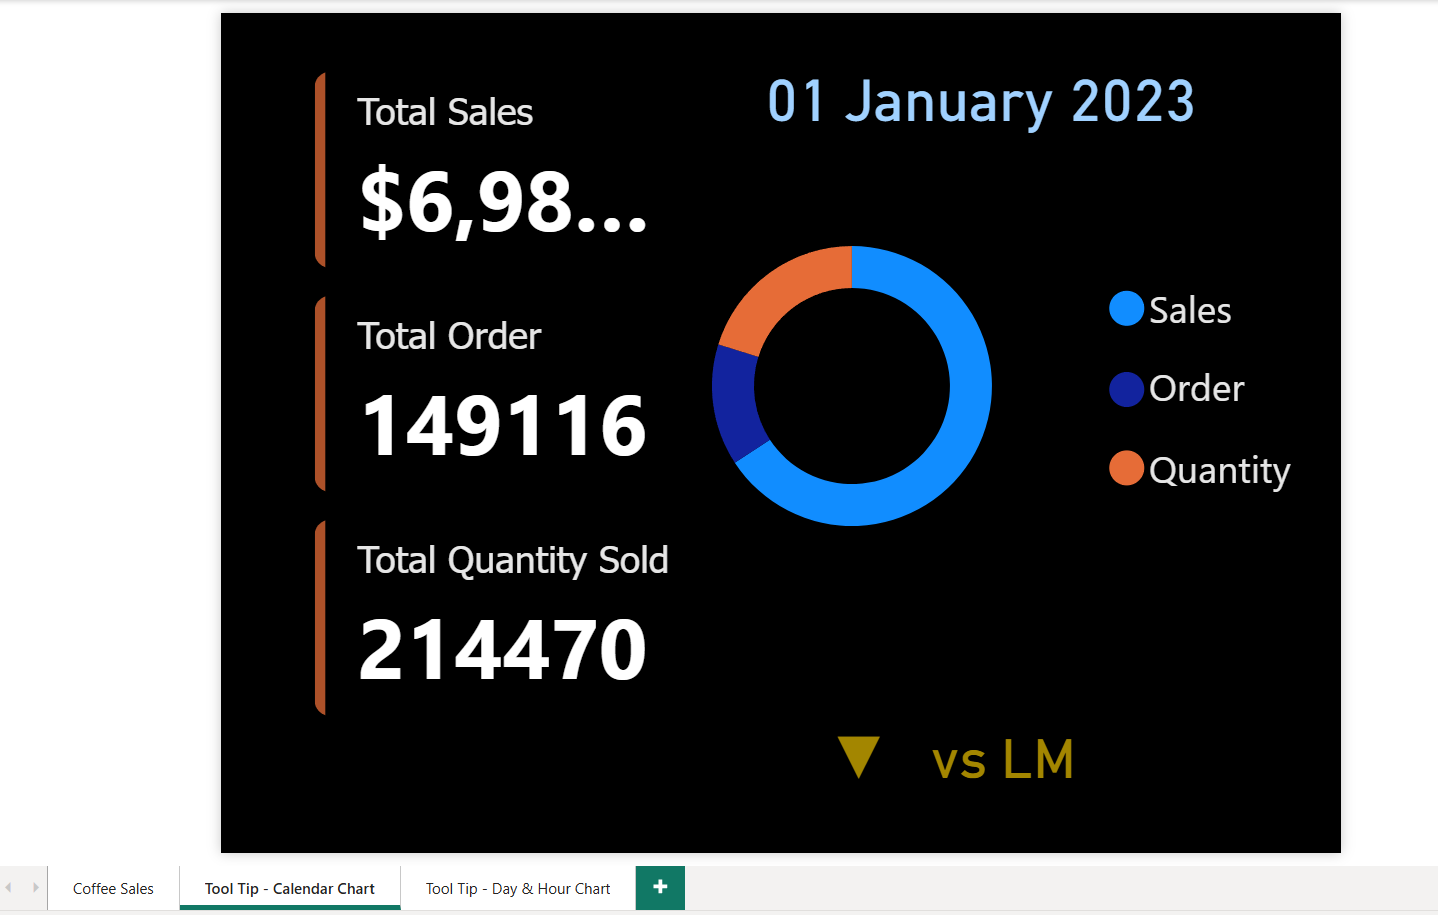

This screenshot's page, from the dashboard's own definition file:
{"tool":"powerbi","page":{"name":"Tool Tip - Calendar Chart","canvas":[320,240],"ordinal":1},"visuals":[{"type":"cardVisual","fields":{"Data":["1. DAX_Measure.Total Sales","1. DAX_Measure.Total Order","1. DAX_Measure.Total Quantity Sold"]},"box":[10,0,148,220],"z":0},{"type":"donutChart","fields":{"Y":["1. DAX_Measure.Total Sales","1. DAX_Measure.Total Order","1. DAX_Measure.Total Quantity Sold"]},"box":[102.8,51.7,217.2,110],"z":1000},{"type":"card","fields":{"Values":["Min(Calendar_Tables.Date)"]},"box":[115,0,205,51.7],"z":2000},{"type":"card","fields":{"Values":["1. DAX_Measure.MoM Growth & Diff Sales"]},"box":[98.3,188.3,221.7,51.7],"z":3000}]}

Visuals, with their boxes on the page's 320x240 design canvas (x1, y1, x2, y2). These are canvas units, not pixel positions in the 1438x915 screenshot, which may show the page scaled, cropped or inside an application window:
cardVisual - 1. DAX_Measure.Total Sales x 1. DAX_Measure.Total Order: (x1=10, y1=0, x2=158, y2=220)
donutChart - 1. DAX_Measure.Total Sales x 1. DAX_Measure.Total Order: (x1=103, y1=52, x2=320, y2=162)
card - Min(Calendar_Tables.Date): (x1=115, y1=0, x2=320, y2=52)
card - 1. DAX_Measure.MoM Growth & Diff Sales: (x1=98, y1=188, x2=320, y2=240)
